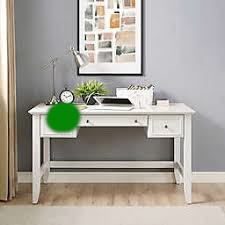focus: (44, 101, 86, 139)
